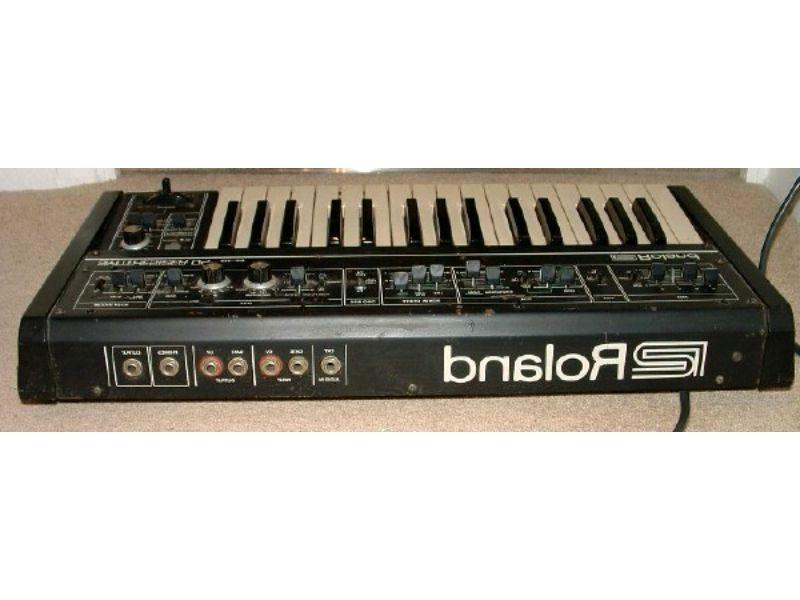synthesizer: (10, 171, 791, 408)
